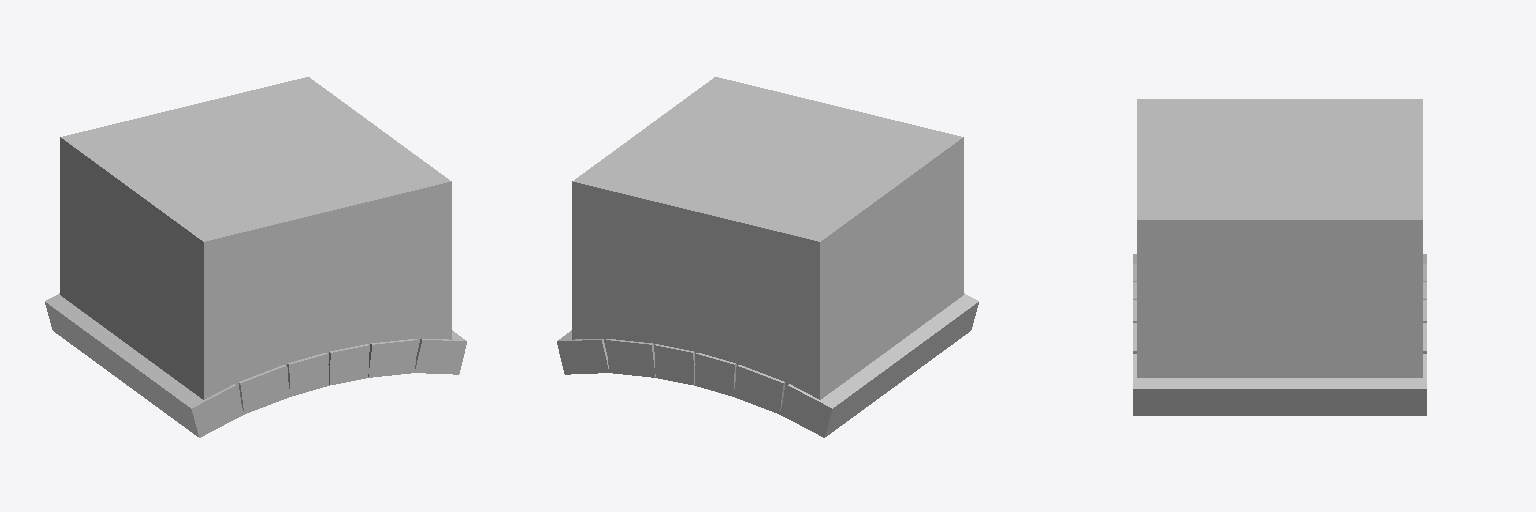
The model's file is sandstone_triple_arch_top_center.obj.
3 renders of one model, left to right at view 1: azimuth 30°, elevation 25°; view 2: azimuth 150°, elevation 25°; view 3: azimuth 270°, elevation 25°, orthographic.
Visible parts, largest first — view 1: cube; view 2: cube; view 3: cube.
Boxes of the visible parts, x1,y1,x2,y2 form: cube: [45, 77, 466, 437]; cube: [557, 77, 978, 437]; cube: [1133, 99, 1426, 415].
Size of the model in its own units: 1.11 by 0.7449 by 1.02.